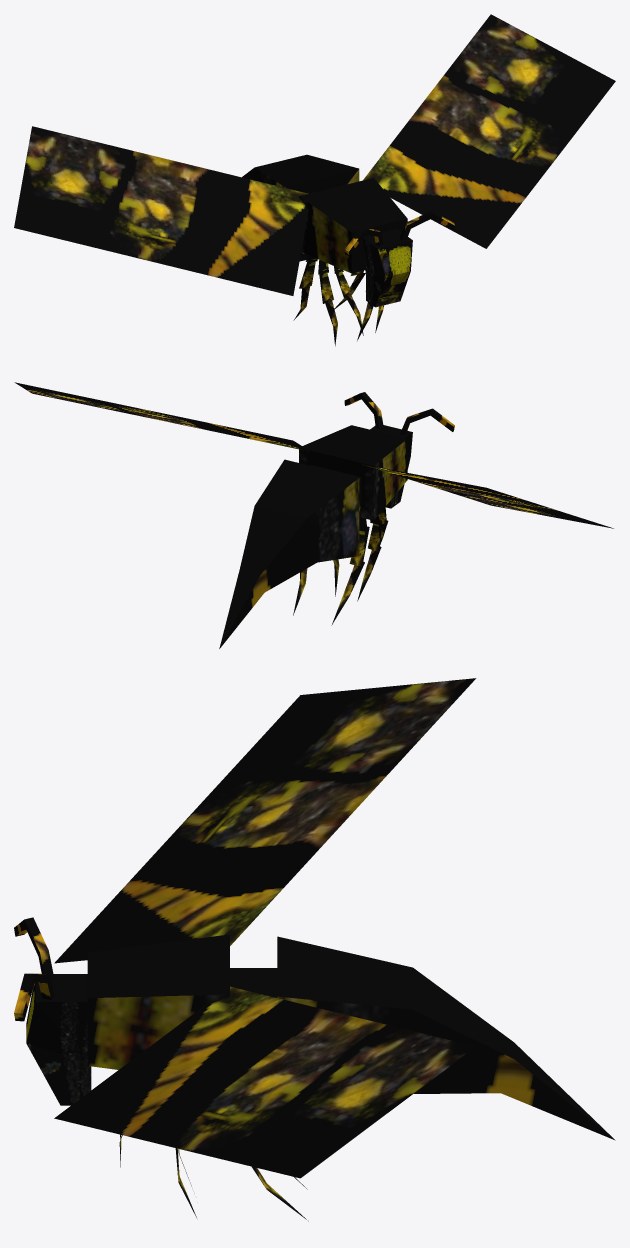
File: vespid.obj
3 renders of one model, top to bottom at view 1: azimuth 30°, elevation 25°; view 2: azimuth 150°, elevation 25°; view 3: azimuth 270°, elevation 25°, orthographic. The views are drawn at different scales.
Parts seen in each view (by area): view 1: WingRight, WingLeft, Body, Head, LegRightMiddle, LegRightBack, LegRightFront; view 2: Body, WingLeft, WingRight, Head, LegRightBack, LegRightMiddle; view 3: WingLeft, WingRight, Body, Head.
Boxes of the visible parts, box(x1,y1,x2,y2) form: WingRight: box(14, 126, 308, 295); WingLeft: box(363, 14, 615, 248); Body: box(242, 154, 407, 273); Head: box(344, 211, 454, 307); LegRightMiddle: box(318, 260, 337, 346); LegRightBack: box(293, 255, 317, 320); LegRightFront: box(334, 266, 363, 335); Body: box(219, 425, 407, 648); WingLeft: box(14, 382, 307, 451); WingRight: box(363, 464, 613, 528); Head: box(344, 392, 454, 508); LegRightBack: box(331, 517, 369, 625); LegRightMiddle: box(357, 515, 382, 601); WingLeft: box(54, 986, 475, 1178); WingRight: box(54, 678, 476, 963); Body: box(87, 934, 615, 1140); Head: box(14, 917, 91, 1105).
Size of the model in its own units: 4.82 by 1.69 by 2.54.
